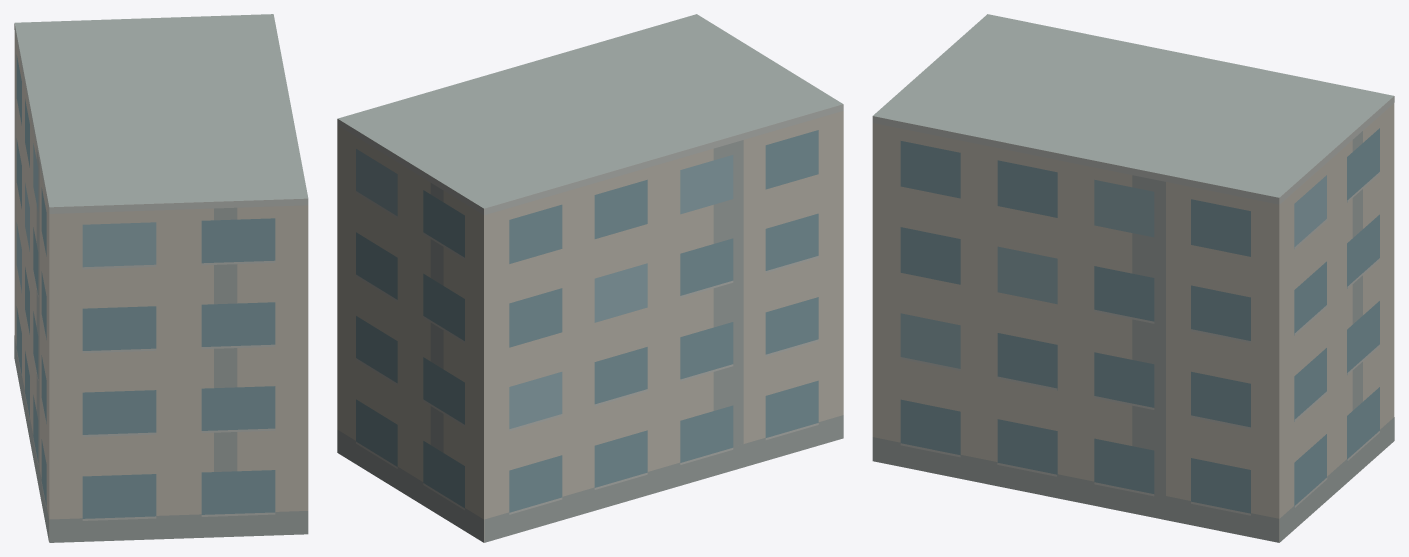
The model's file is residential-9e2631ed-0ba2-409d-a385-75b9c4fbcaeb.glb.
The picture shows the model from 3 angles, left to right: view 1: azimuth 30°, elevation 25°; view 2: azimuth 150°, elevation 25°; view 3: azimuth 270°, elevation 25°; orthographic projection. The views are drawn at different scales.
Visible parts, largest first — view 1: residential-9e2631ed-0ba2-409d-a385-75b9c4fbcaeb.tmp; view 2: residential-9e2631ed-0ba2-409d-a385-75b9c4fbcaeb.tmp; view 3: residential-9e2631ed-0ba2-409d-a385-75b9c4fbcaeb.tmp.
Boxes of the visible parts, <box> form: residential-9e2631ed-0ba2-409d-a385-75b9c4fbcaeb.tmp: <box>14,14,308,542</box>; residential-9e2631ed-0ba2-409d-a385-75b9c4fbcaeb.tmp: <box>337,14,843,542</box>; residential-9e2631ed-0ba2-409d-a385-75b9c4fbcaeb.tmp: <box>872,14,1394,542</box>.
Bounding box in the file's own units: 13.95 × 12.2 × 16.73.
